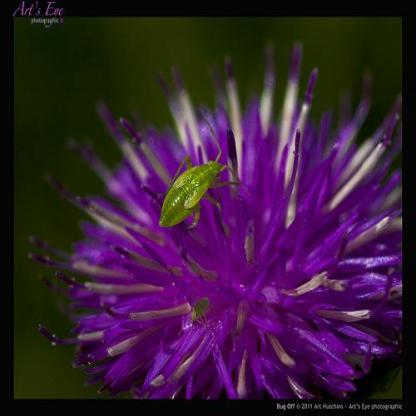aphid: (154, 118, 242, 242)
